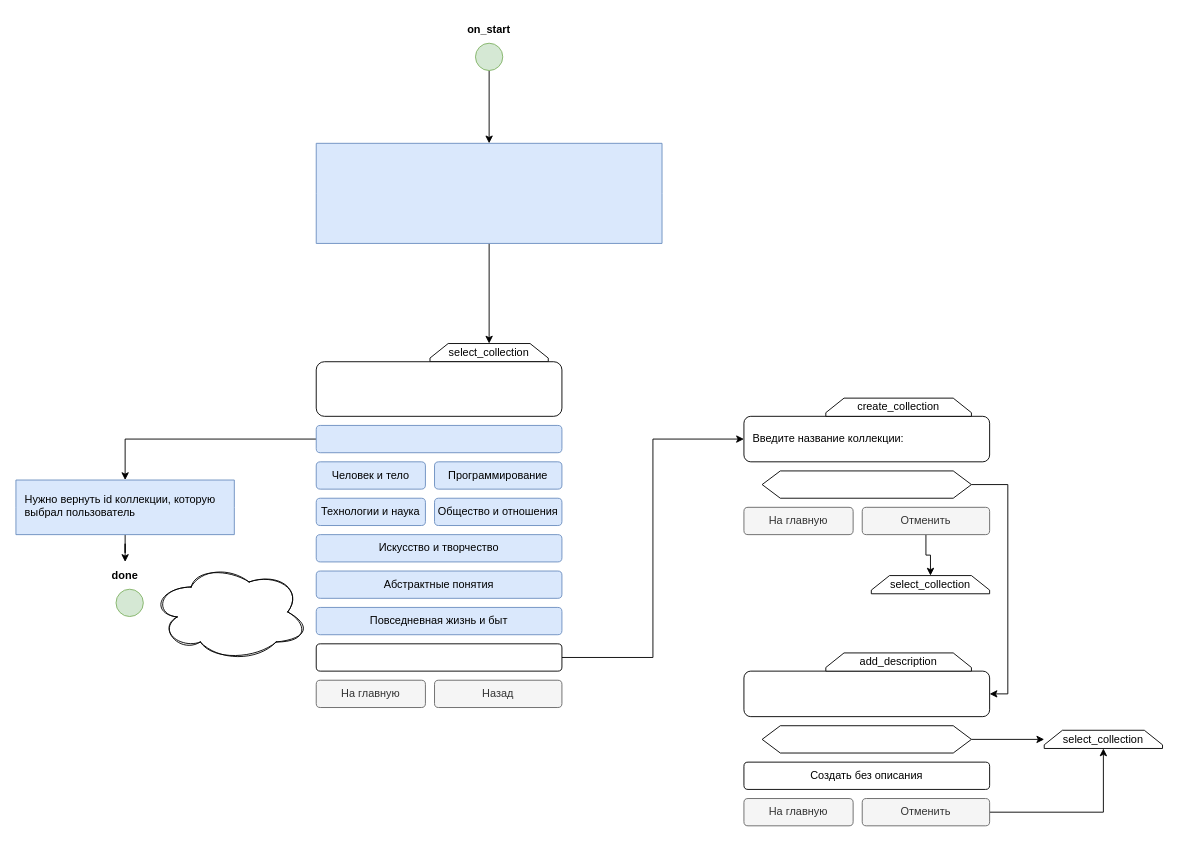
Some shapes in this 1178 by 842 pixel diagram are drawn without their labels. Each missing label, with the centre of its shape:
"start_data={ parent_dialog : StateGroup = NewWord. select_collection , }" goes at [488,192].
"X коллекций - X кнопок" goes at [438,439].
"Ваши коллекции:" goes at [438,388].
"Введите описание этой коллекции:" goes at [866,693].
"Можно создавать подколлекции" goes at [229,611].
"Создать новую" goes at [438,657].
